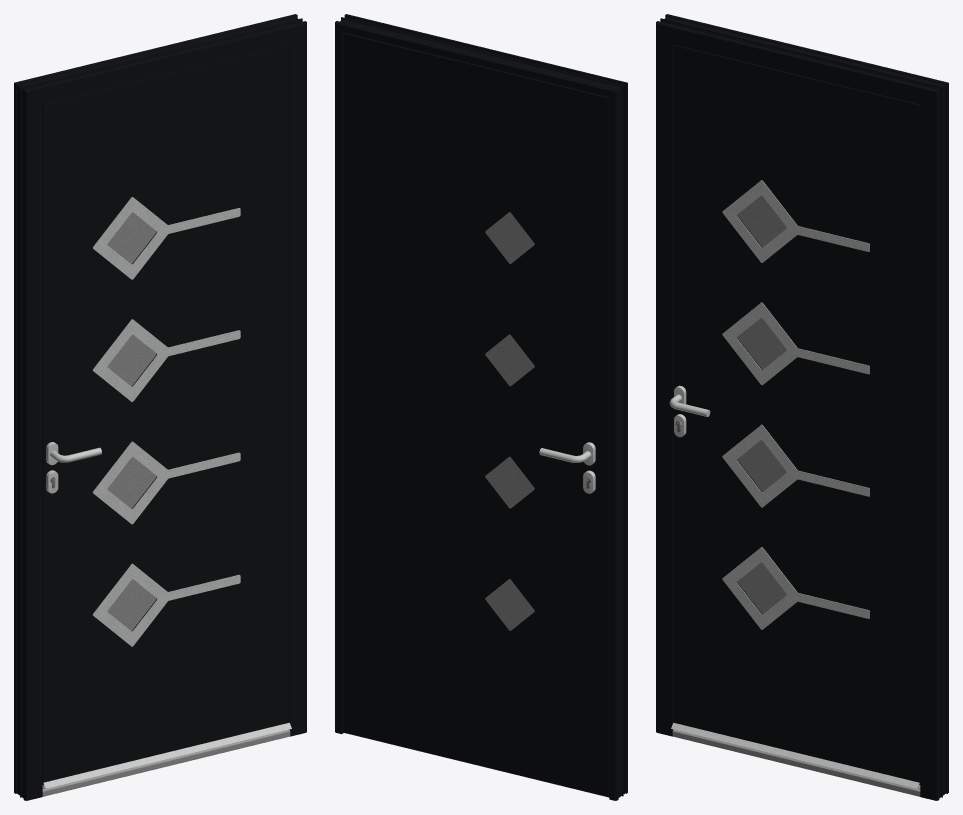
3 renders of one model, left to right at view 1: azimuth 30°, elevation 25°; view 2: azimuth 150°, elevation 25°; view 3: azimuth 330°, elevation 25°, orthographic.
Visible parts, largest first — view 1: bloco_34, aroFixo, alunox_21, Plane001, aroMovel, rodapé, escovas, puxador001; view 2: bloco_34, aroFixo, Plane002, aroMovel, puxador; view 3: bloco_34, aroFixo, alunox_21, Plane001, aroMovel, rodapé, escovas, puxador001.
Part boxes in pixels (box(x1,y1,x2,y2)): bloco_34: box(44, 46, 289, 782); aroFixo: box(14, 14, 306, 800); alunox_21: box(92, 197, 240, 646); Plane001: box(107, 212, 156, 630); aroMovel: box(42, 44, 289, 784); rodapé: box(42, 729, 290, 796); escovas: box(42, 722, 291, 788); puxador001: box(46, 442, 101, 493); bloco_34: box(344, 34, 607, 796); aroFixo: box(335, 14, 627, 800); Plane002: box(485, 212, 534, 630); aroMovel: box(343, 32, 609, 796); puxador: box(539, 442, 595, 493); bloco_34: box(673, 46, 918, 782); aroFixo: box(656, 14, 948, 800); alunox_21: box(722, 180, 869, 629); Plane001: box(737, 195, 786, 613); aroMovel: box(673, 44, 920, 784); rodapé: box(672, 729, 920, 796); escovas: box(671, 722, 920, 788); puxador001: box(669, 385, 710, 437).
Size of the model in its own units: 900 by 2165 by 209.
7 materials, 3 textured.
